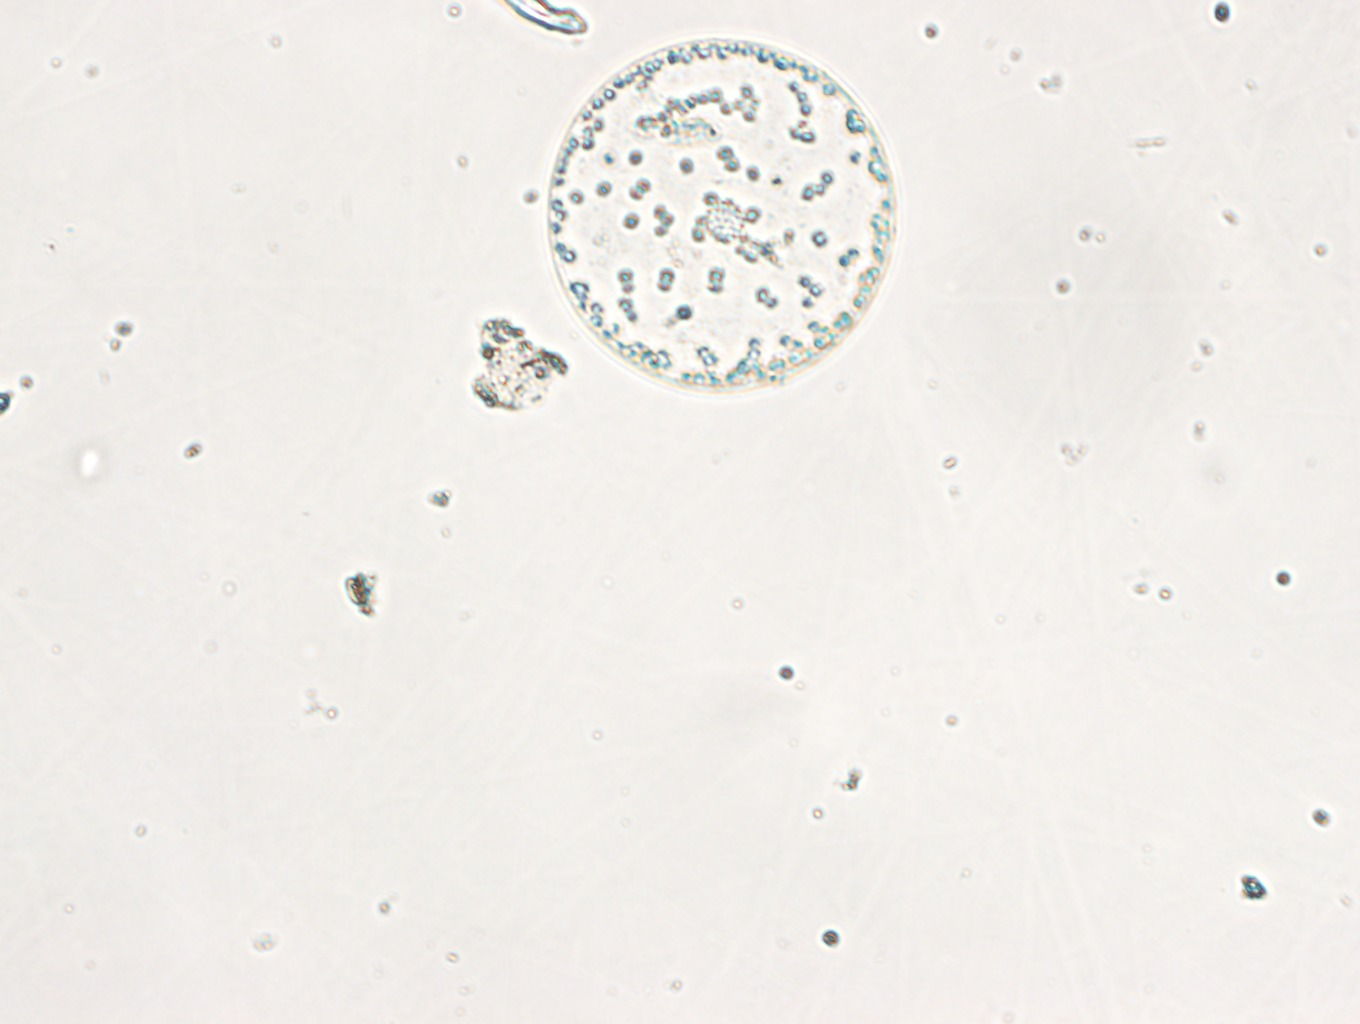coscinodiscus: (545, 38, 896, 394)
